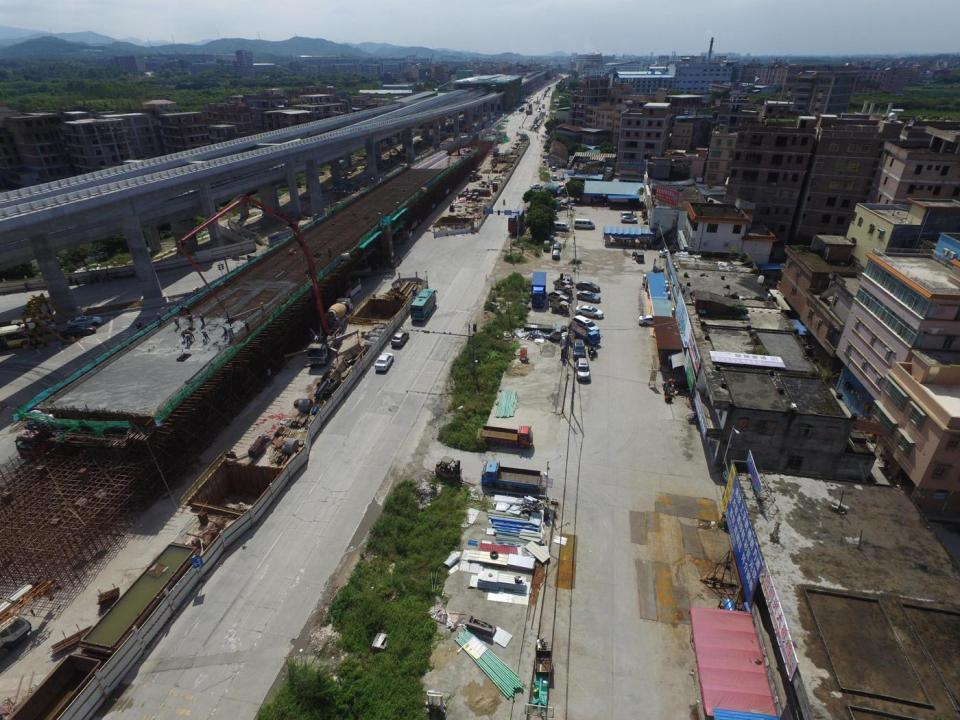bus: (0, 322, 45, 348), (411, 289, 436, 320)
car: (61, 325, 96, 336), (374, 352, 394, 371), (575, 306, 604, 319), (391, 330, 409, 348), (576, 358, 590, 381), (66, 317, 101, 326), (639, 314, 665, 326), (577, 290, 601, 303), (573, 340, 586, 360), (577, 281, 599, 291), (621, 216, 637, 224), (552, 250, 560, 258), (554, 243, 562, 251), (530, 184, 542, 188), (551, 166, 557, 171), (552, 175, 558, 180)
truck: (482, 460, 545, 491), (478, 426, 534, 448), (569, 321, 601, 345), (10, 319, 56, 333), (532, 271, 548, 308)
van: (572, 316, 598, 335), (574, 218, 594, 230), (632, 251, 644, 263), (553, 222, 570, 230), (620, 212, 638, 219), (543, 241, 549, 251)
